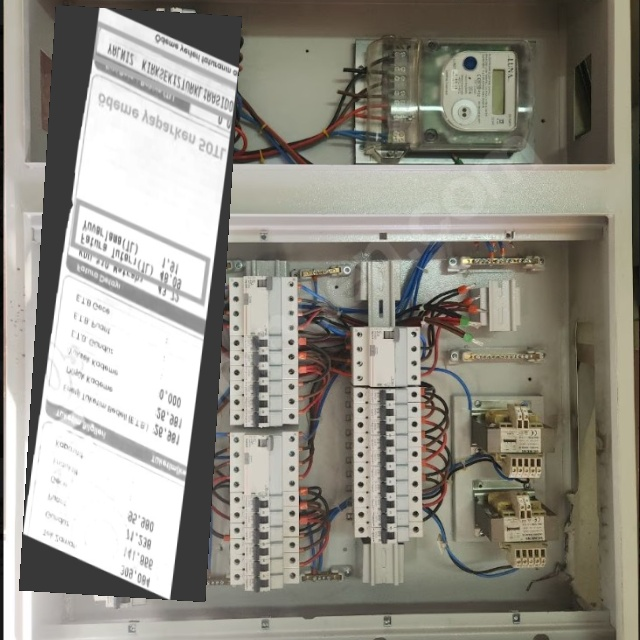electricity-bill: (18, 5, 242, 602)
